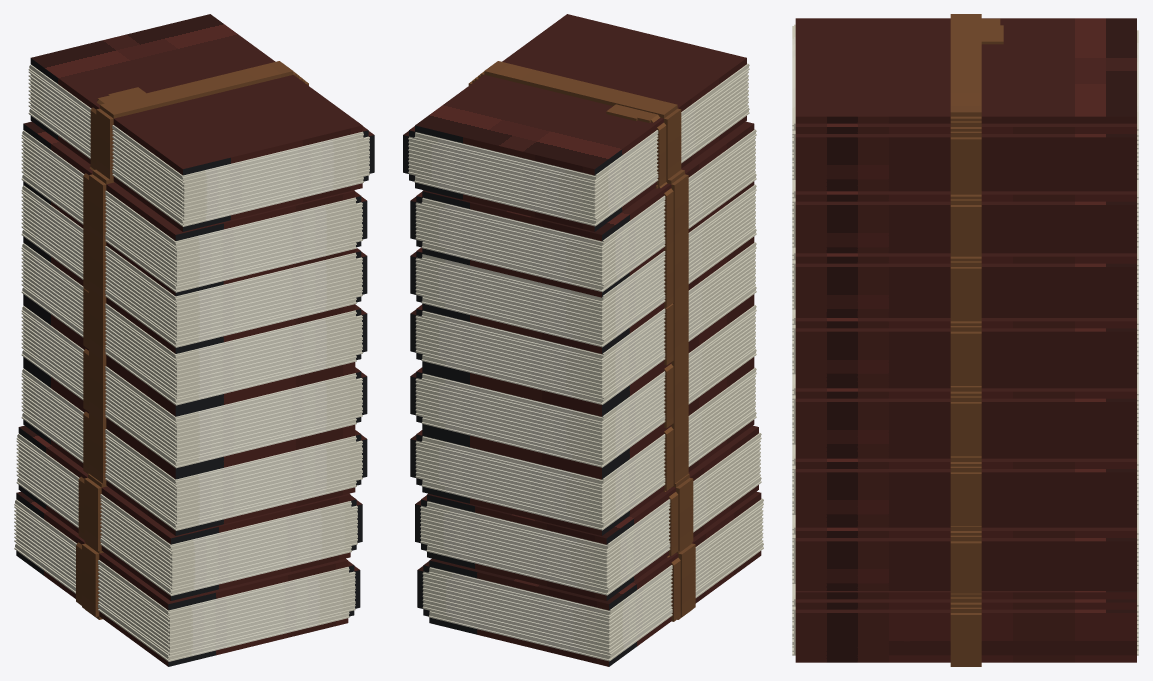
File: stack_of_books_8.gltf
3 renders of one model, left to right at view 1: azimuth 30°, elevation 25°; view 2: azimuth 150°, elevation 25°; view 3: azimuth 270°, elevation 25°, orthographic. The views are drawn at different scales.
Parts seen in each view (by area): view 1: cube (×185); view 2: cube (×247); view 3: cube (×50).
Boxes of the visible parts, x1,y1,x2,y2 form: cube (×185): (14, 14, 369, 666); cube (×247): (408, 14, 763, 666); cube (×50): (795, 14, 1136, 662).
Size of the model in its own units: 0.5563 by 1.25 by 0.6969.
Materials: 3 (3 with a texture image).
